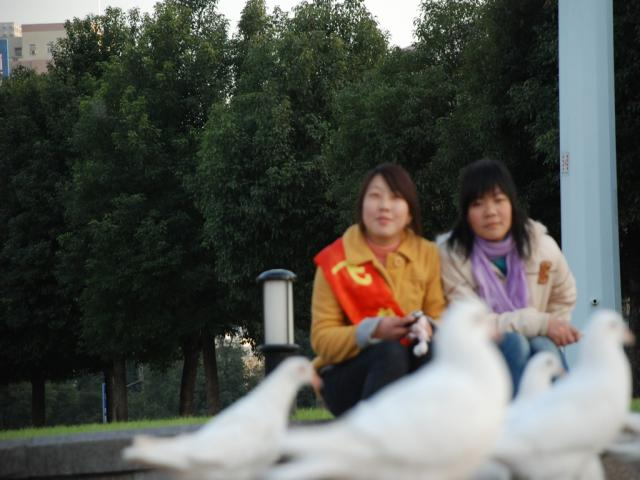Bird: (260, 298, 514, 478), (474, 310, 639, 474), (121, 352, 332, 480), (494, 348, 572, 480)
